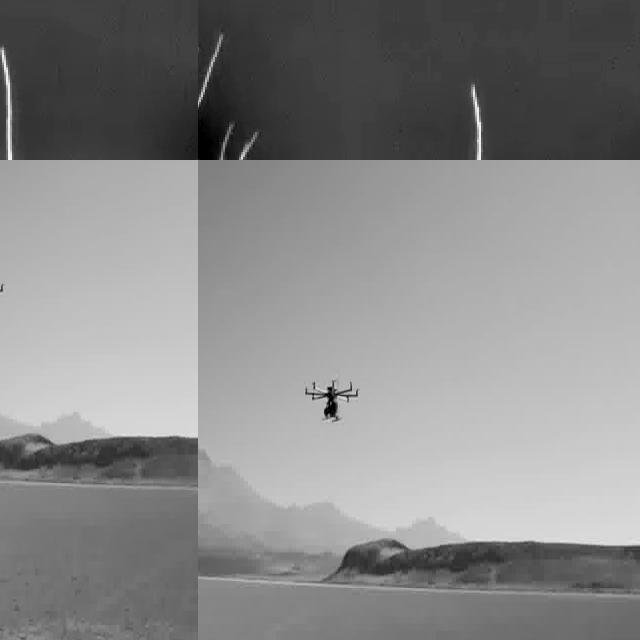drone: (306, 370, 360, 423)
